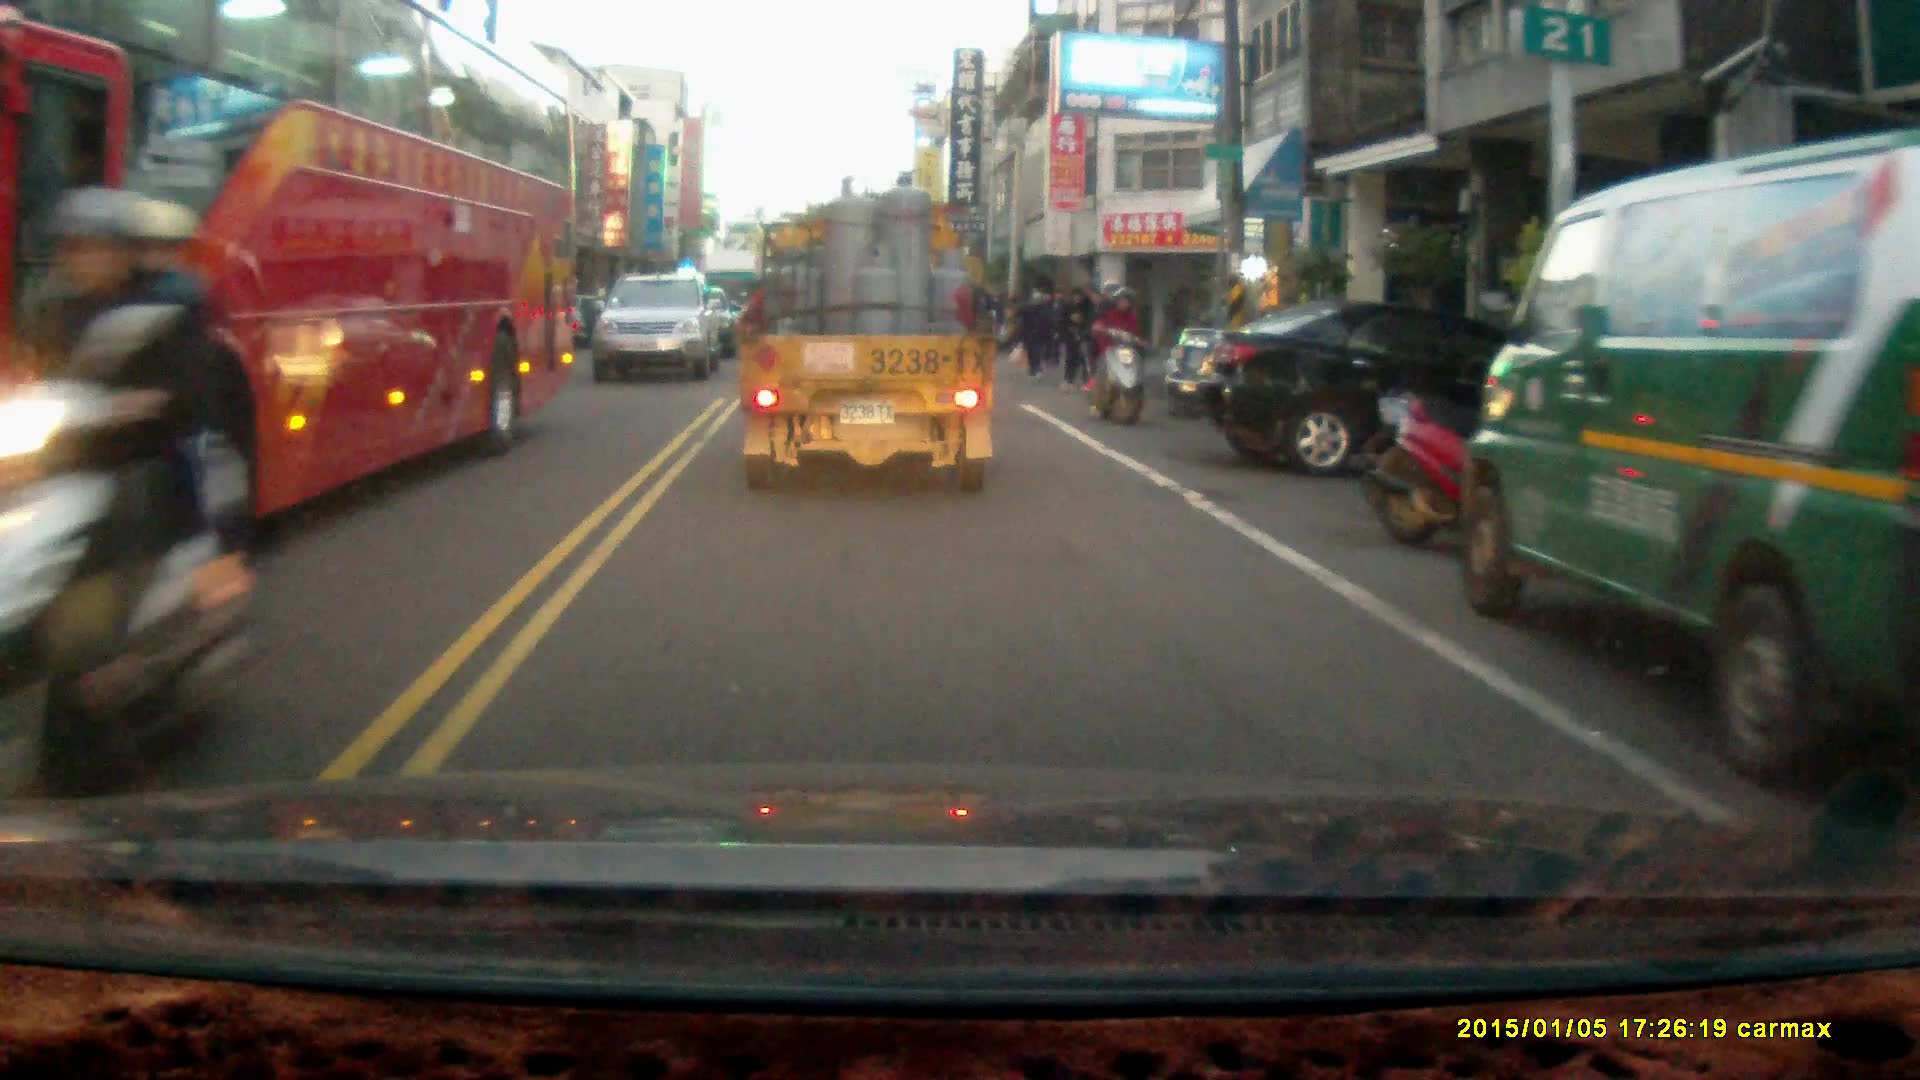pedestrian: (1056, 284, 1094, 391), (1019, 284, 1055, 374)
rider: (0, 184, 255, 834), (1087, 274, 1151, 426)
vehicle: (1, 7, 588, 639), (1455, 129, 1920, 790), (736, 166, 1002, 495), (1171, 300, 1572, 478), (598, 272, 726, 383)
